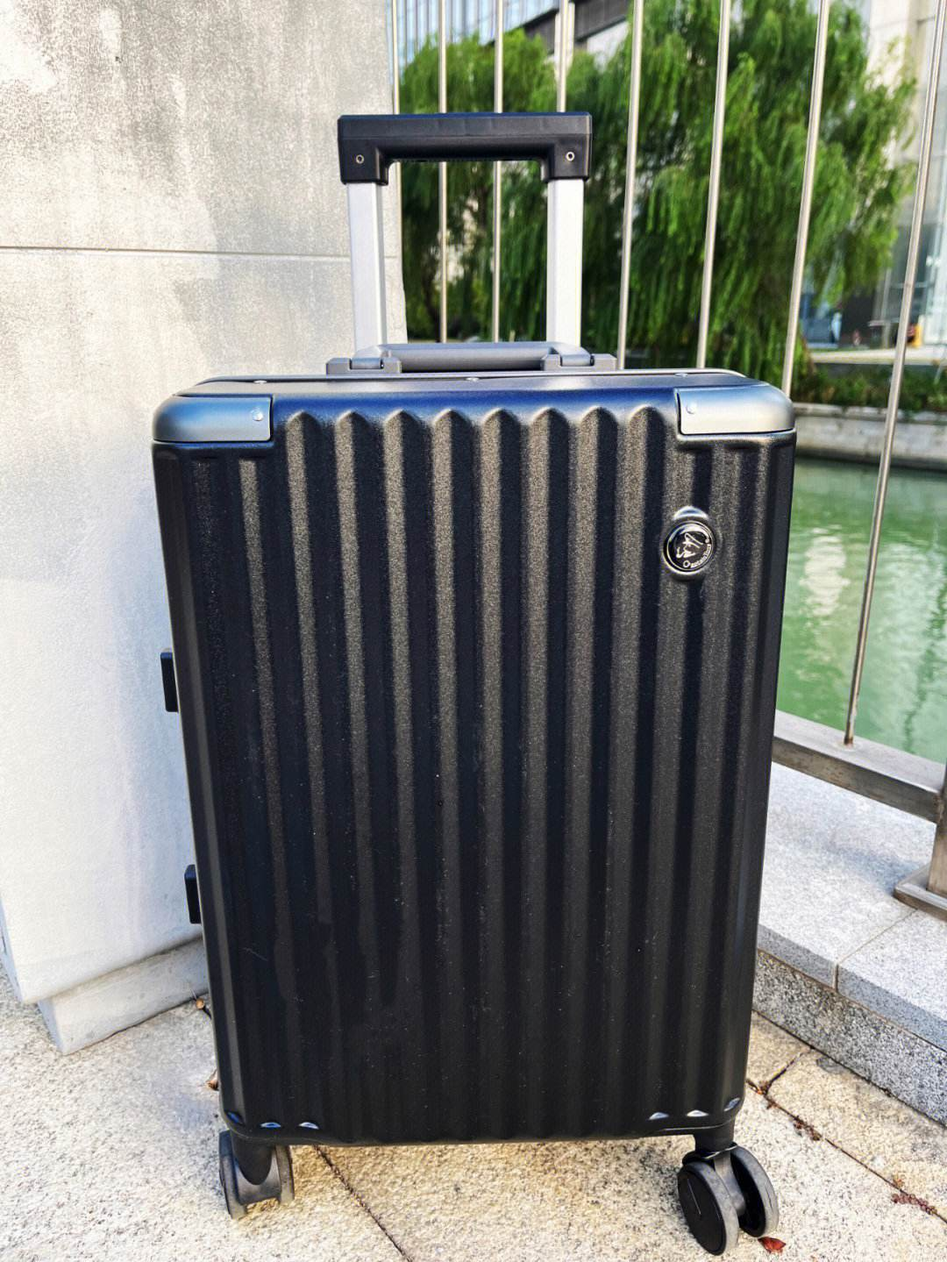box: (152, 367, 797, 1149)
handle: (324, 340, 618, 379)
wheel: (675, 1144, 779, 1254), (218, 1130, 296, 1219)
